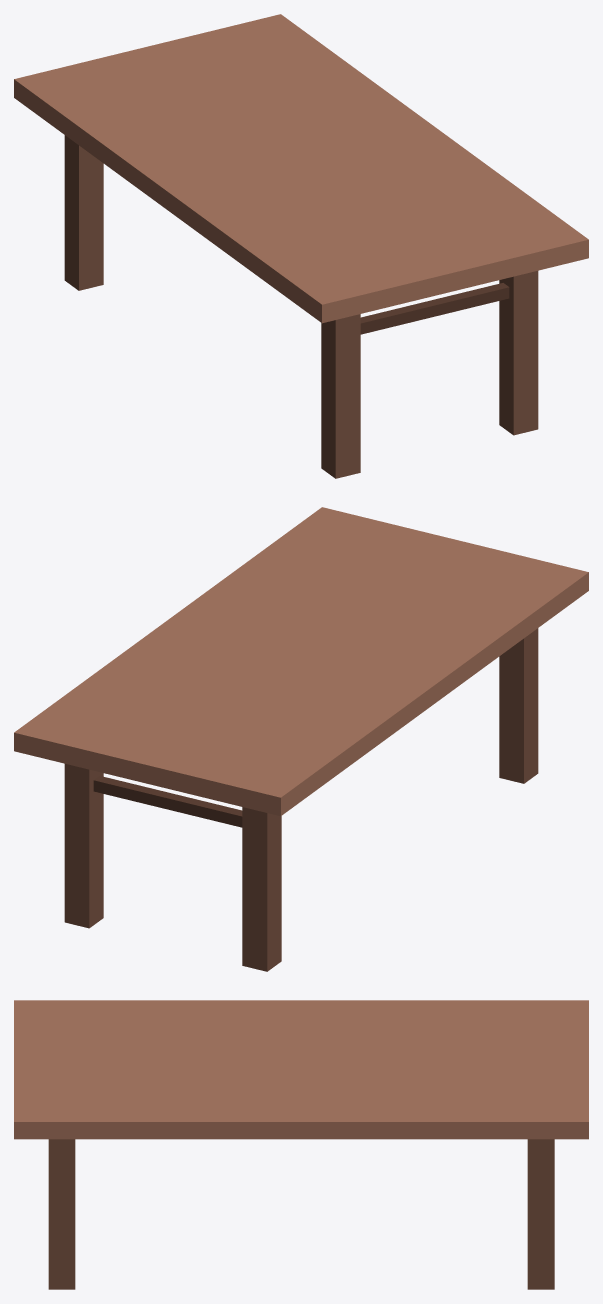
File: Desk.dae
3 views of the same model, one above another, from view 1: azimuth 30°, elevation 25°; view 2: azimuth 150°, elevation 25°; view 3: azimuth 270°, elevation 25° (orthographic). The views are drawn at different scales.
Parts seen in each view (by area): view 1: Desk; view 2: Desk; view 3: Desk.
Boxes of the visible parts, <box> form: Desk: <box>14,14,588,478</box>; Desk: <box>14,507,588,971</box>; Desk: <box>14,1000,588,1289</box>.
Size of the model in its own units: 3 by 6 by 2.1.
1 material, 1 textured.
